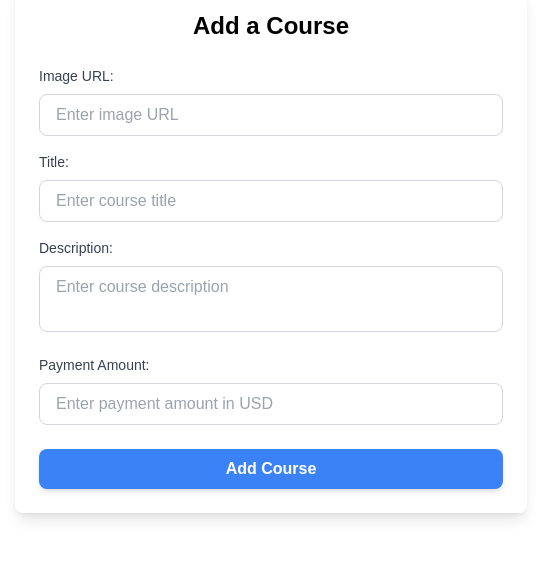
it: AddCourse Component › submits the form and displays success message
Note: Fill in the form fields
Type "http://example.com/image.jpg" into the field labelled "Image URL:" at (271, 115), box [39,94,503,136]
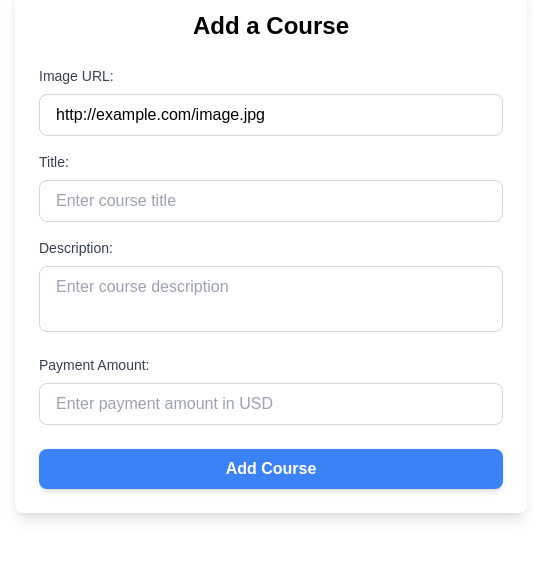
Type "Test Course" into the field labelled "Title:" at (271, 201), box [39,180,503,222]
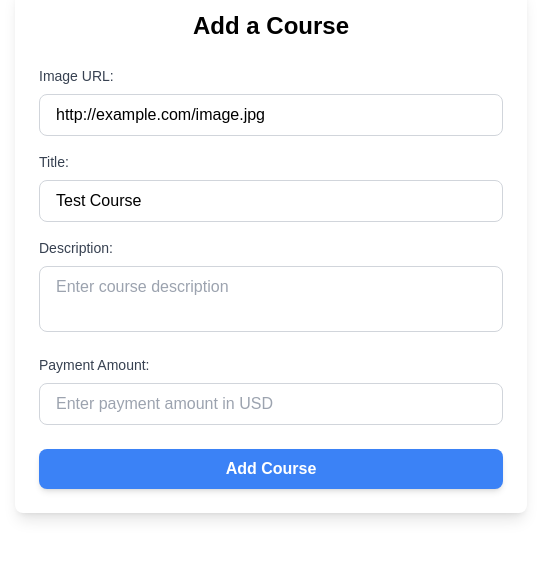
Type "Test course description" into the text box labelled "Description:" at (271, 299), box [39,266,503,332]
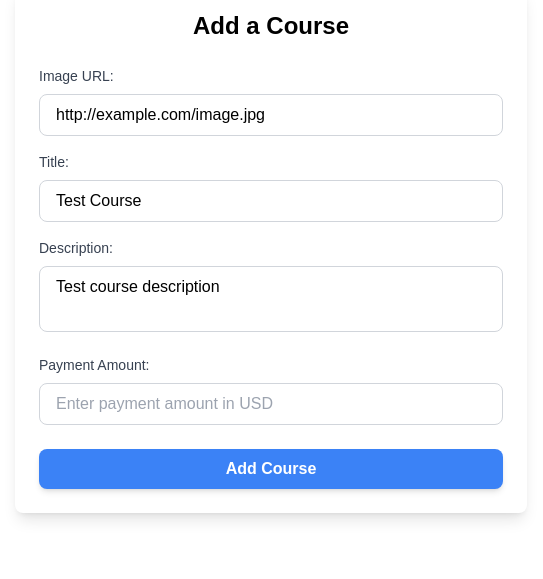
Type "100" into the number field labelled "Payment Amount:" at (271, 404), box [39,383,503,425]
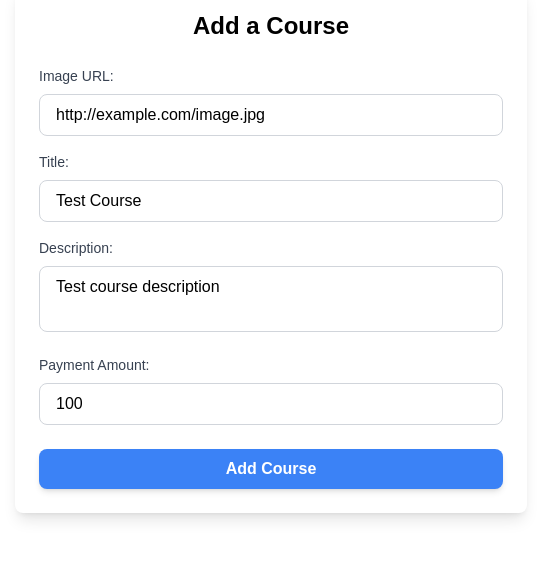
Note: Submit the form
Click the button "Add Course" at (271, 469), box [39,449,503,489]
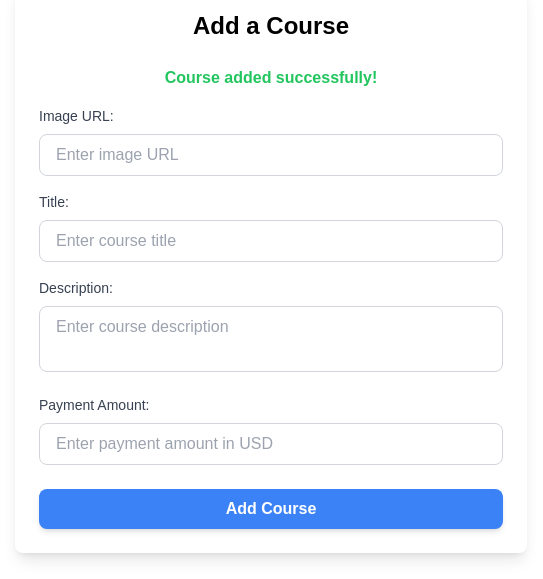
expect the text "Course added successfully!" is shown: met, box [165,69,377,86]
